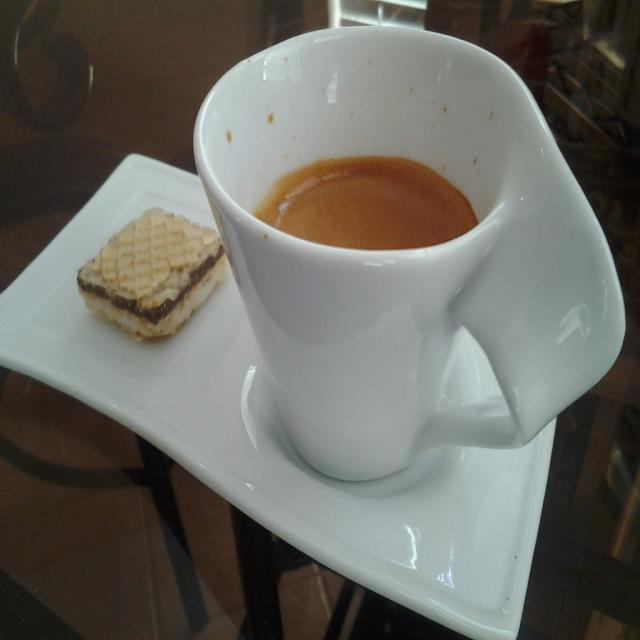Coffee: (168, 8, 604, 502)
Tea: (255, 159, 479, 251)
